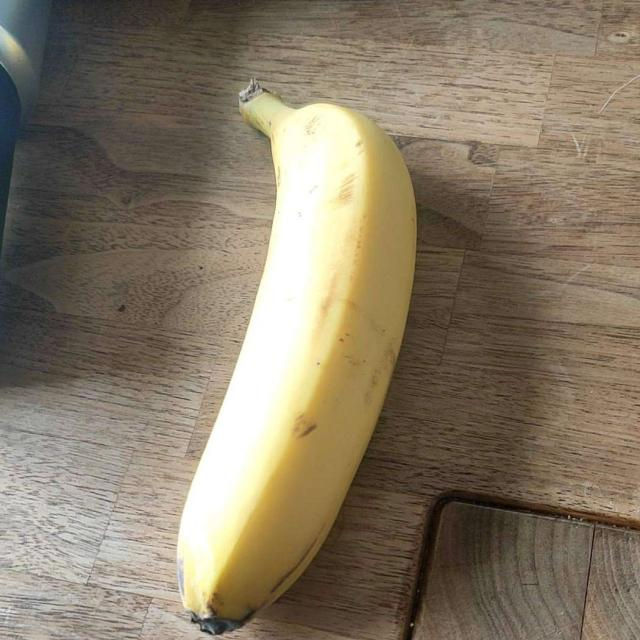banana: (179, 97, 415, 617)
